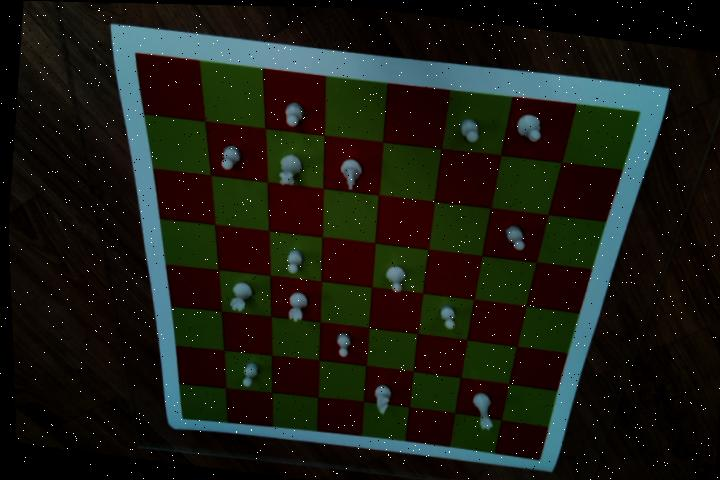chessboard-detect: (134, 50, 640, 459)
